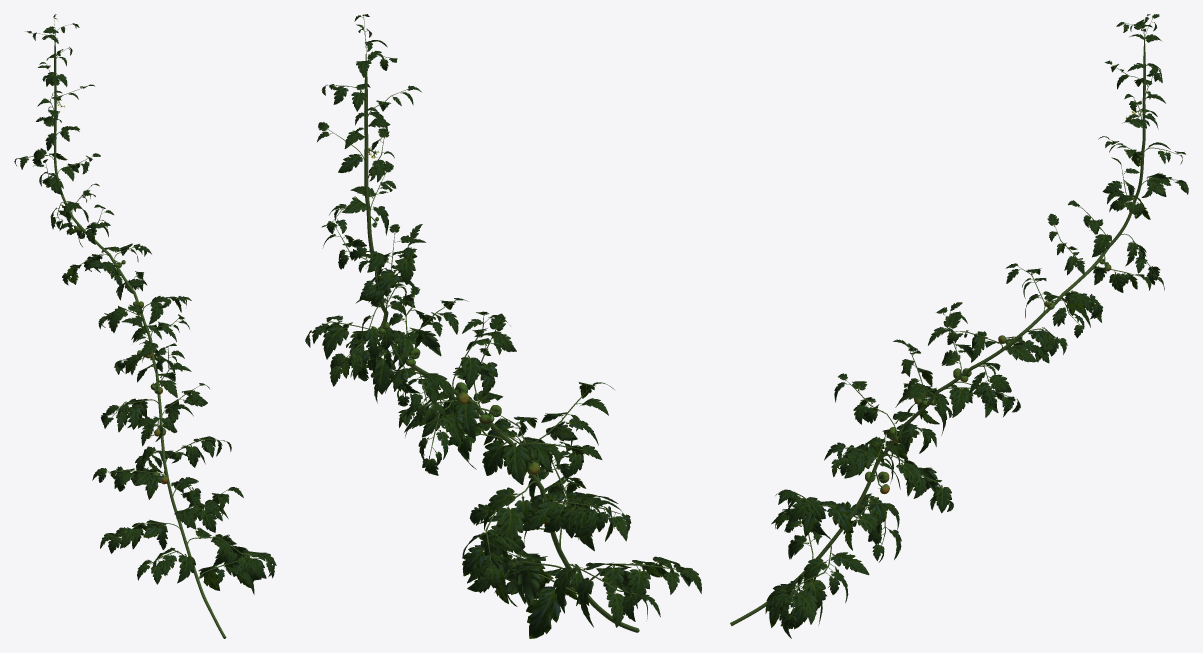
File: tomato_004.glb
3 renders of one model, left to right at view 1: azimuth 30°, elevation 25°; view 2: azimuth 150°, elevation 25°; view 3: azimuth 270°, elevation 25°, orthographic. The views are drawn at different scales.
Parts seen in each view (by area): view 1: tomato_004; view 2: tomato_004; view 3: tomato_004.
Part boxes in pixels (x1,y1,x2,y2): tomato_004: [14, 14, 276, 638]; tomato_004: [305, 14, 701, 638]; tomato_004: [730, 14, 1188, 638].
Size of the model in its own units: 0.8782 by 2.88 by 1.95.
17 materials, 16 textured.
